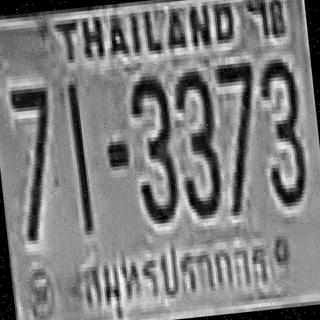N01: (66, 80, 93, 232)
N03: (126, 71, 179, 222), (170, 66, 221, 217), (257, 54, 307, 204)
N07: (7, 84, 61, 241), (215, 59, 264, 212)
P57: (76, 230, 274, 313)
